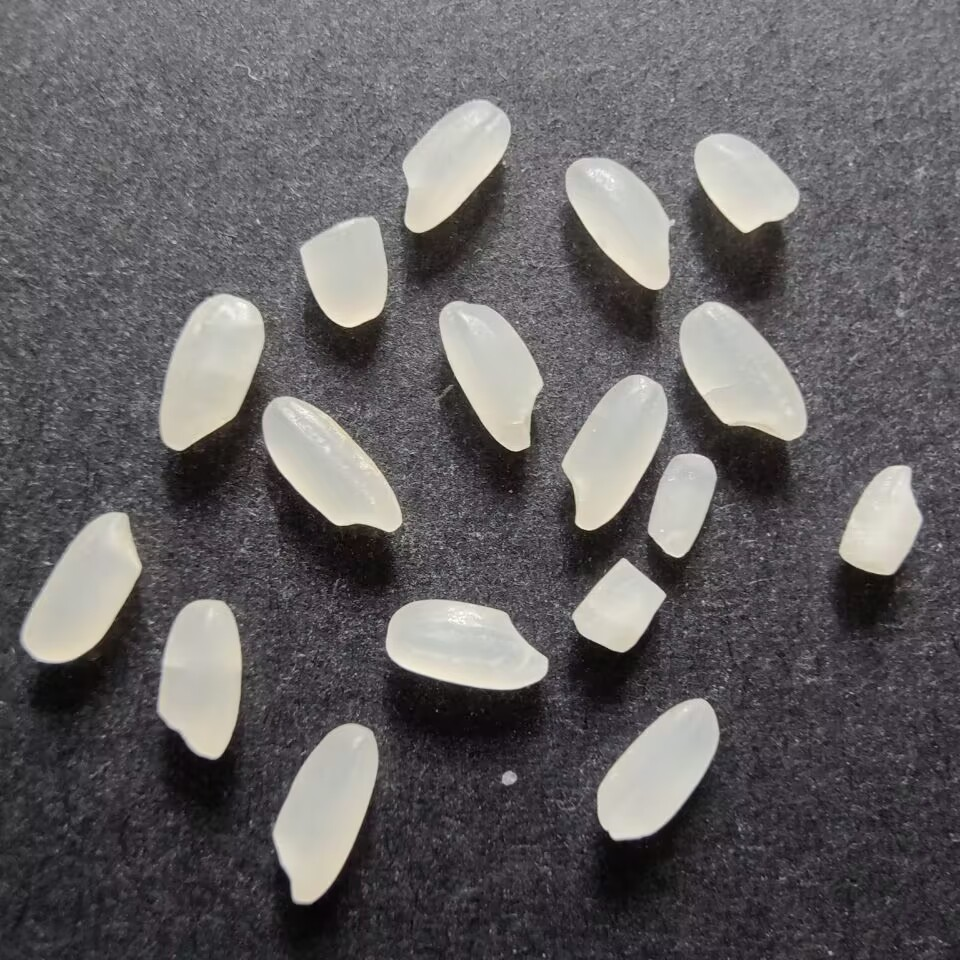broken: (690, 131, 804, 236), (293, 212, 393, 331), (834, 457, 927, 579), (569, 555, 669, 659), (643, 449, 720, 563)
rice: (266, 720, 384, 908), (259, 394, 407, 540), (17, 504, 146, 669), (675, 297, 809, 450), (593, 693, 723, 847), (154, 289, 269, 457), (559, 370, 672, 535), (435, 298, 548, 453), (383, 597, 553, 696), (396, 96, 514, 238), (151, 595, 247, 766), (560, 154, 675, 293)
